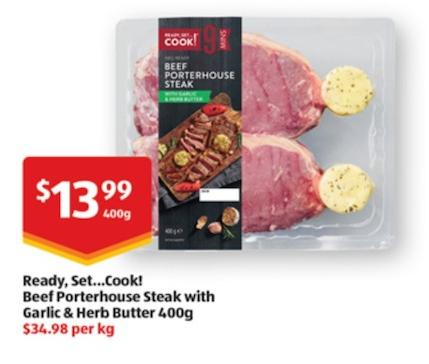description_block: (14, 271, 219, 322)
price_main: (24, 152, 151, 264)
product_image_block: (106, 8, 404, 260)
unit_price_block: (16, 320, 127, 339)
